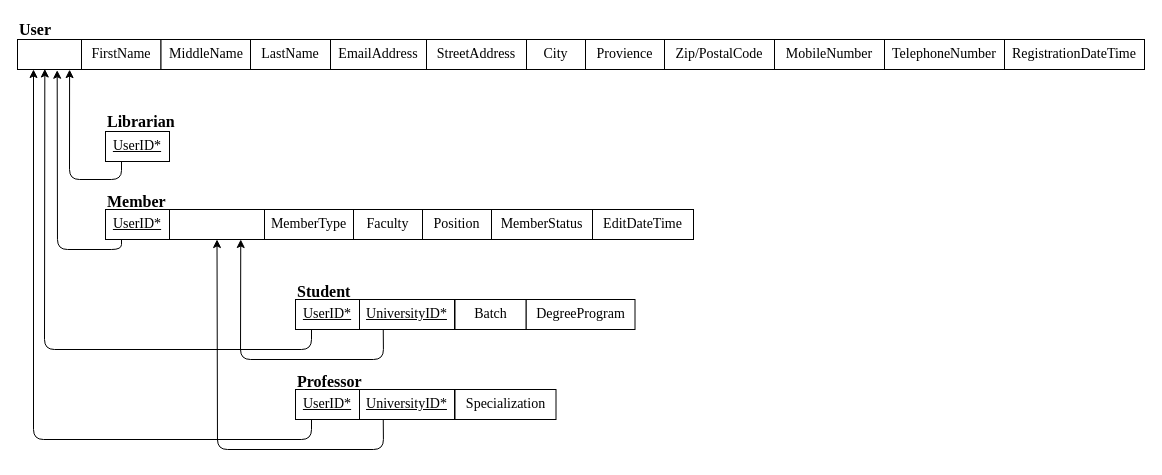
Image size: 1162x475. Some labels were removed from this diagram. The shapes that lost their labels are listed below. From the top down, each one's centre as x and y in pixels, then its label:
At [49,54]: "UserID".
At [216,224]: "UniversityID".
